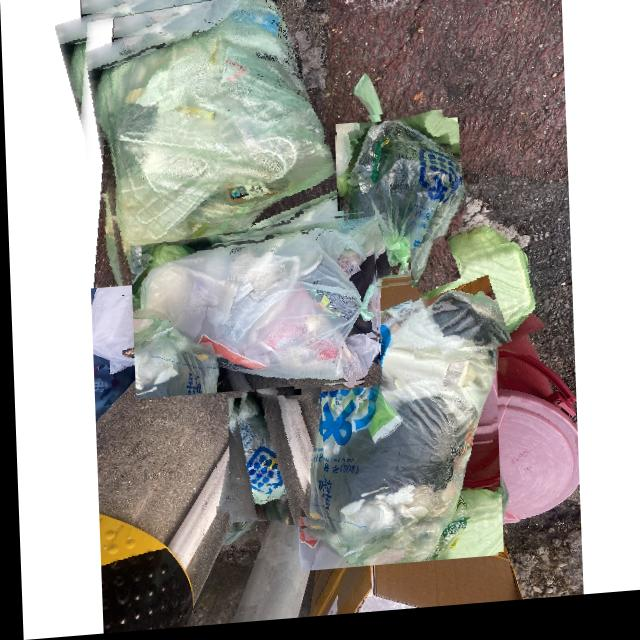general_trashbag: (78, 0, 335, 288), (294, 284, 493, 575), (328, 117, 476, 289), (408, 216, 546, 369), (213, 397, 318, 531)
other_trashbag: (129, 221, 376, 400)
